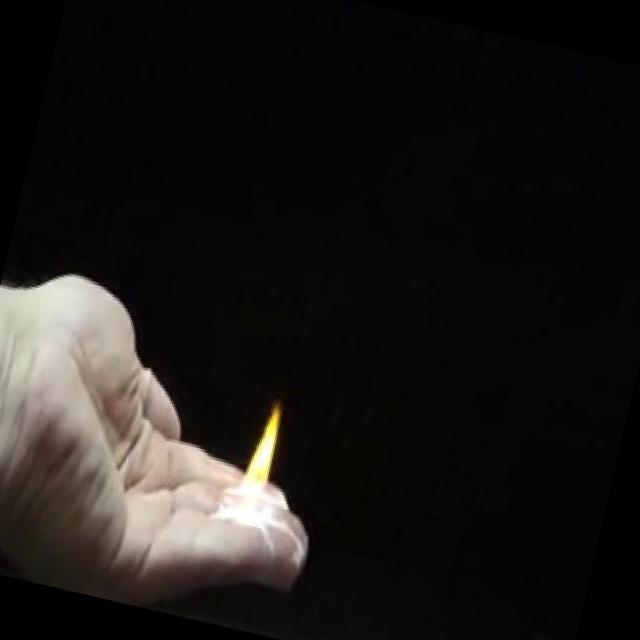Smoke: (222, 393, 288, 519)
